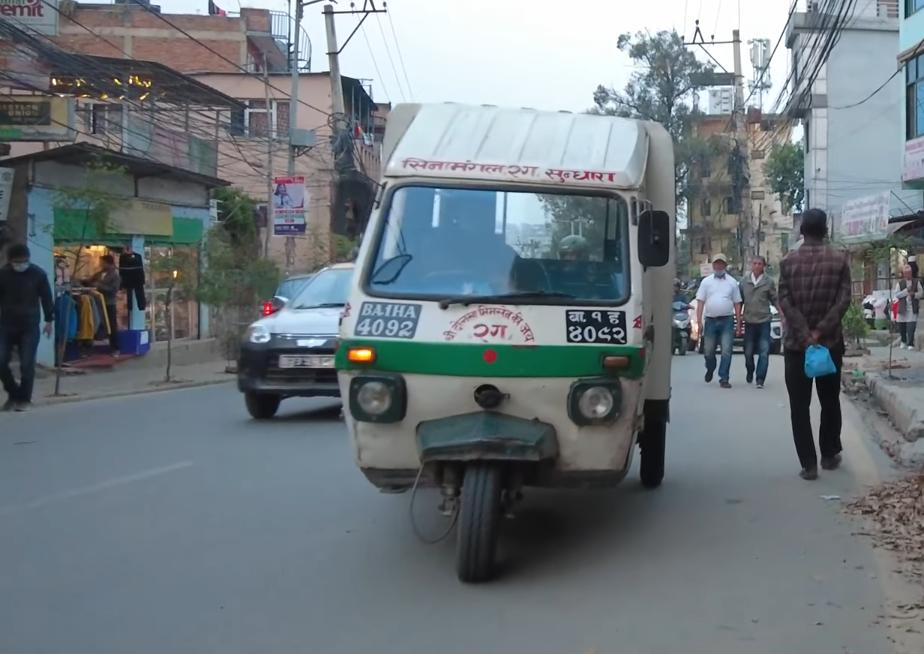taxi: (233, 255, 376, 421)
tempo: (331, 89, 678, 586)
